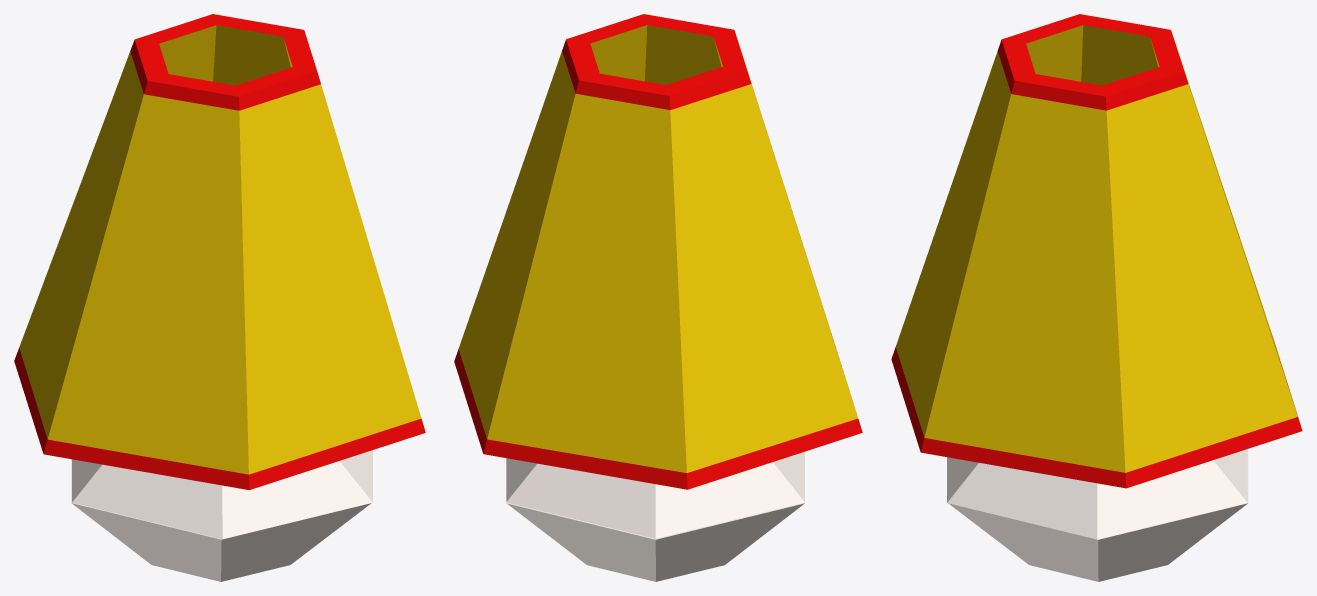
Rendered from Lamp.dae.
3 renders of one model, left to right at view 1: azimuth 30°, elevation 25°; view 2: azimuth 150°, elevation 25°; view 3: azimuth 270°, elevation 25°, orthographic.
Visible parts, largest first — view 1: Group_4 (×4), Group_3 (×2); view 2: Group_4 (×4), Group_3 (×2); view 3: Group_4 (×4), Group_3 (×2).
Boxes of the visible parts, x1,y1,x2,y2 form: Group_4 (×4): (14,14,425,490); Group_3 (×2): (71,450,372,581); Group_4 (×4): (454,14,862,489); Group_3 (×2): (506,451,804,581); Group_4 (×4): (891,14,1302,488); Group_3 (×2): (947,449,1247,581).
Size of the model in its own units: 16.9 by 15.76 by 20.88.
